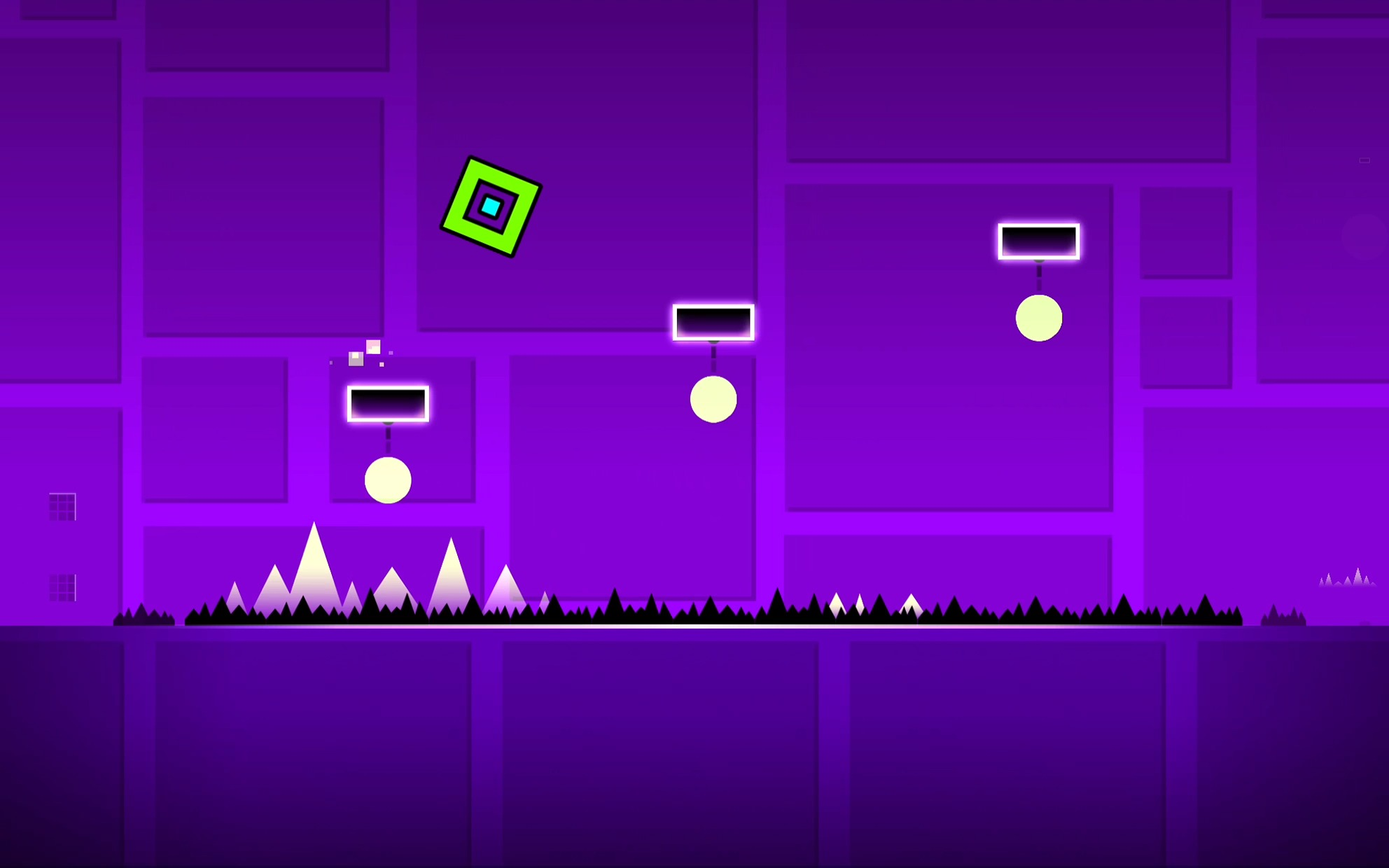Block3: (672, 304, 758, 342), (998, 224, 1079, 258), (352, 387, 427, 419)
Player: (440, 156, 541, 256)
Spike3: (106, 588, 1324, 627)
